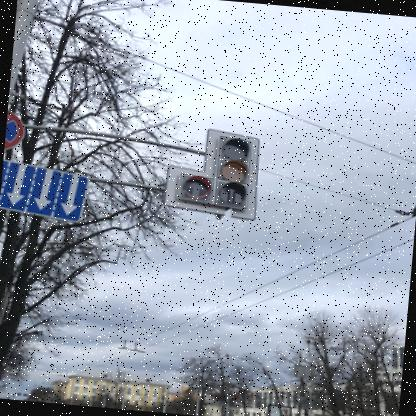trafficlight: (175, 130, 257, 212)
